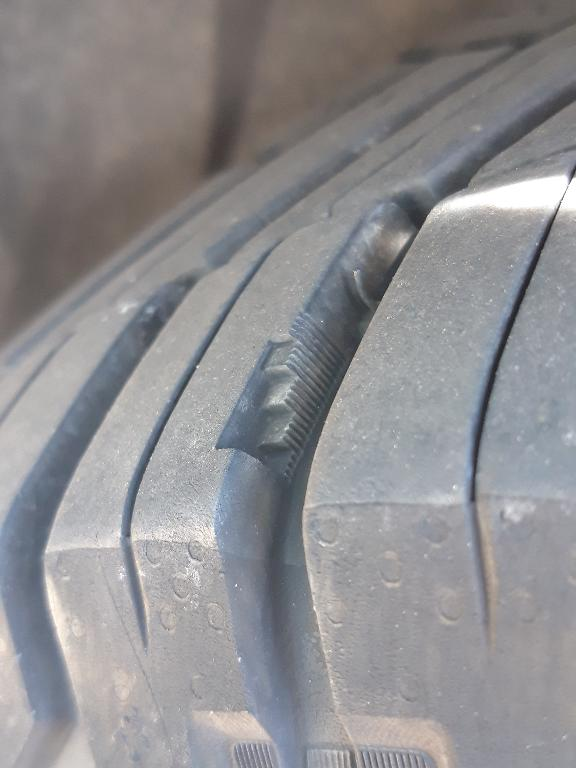temoin:90: (207, 303, 352, 494)
